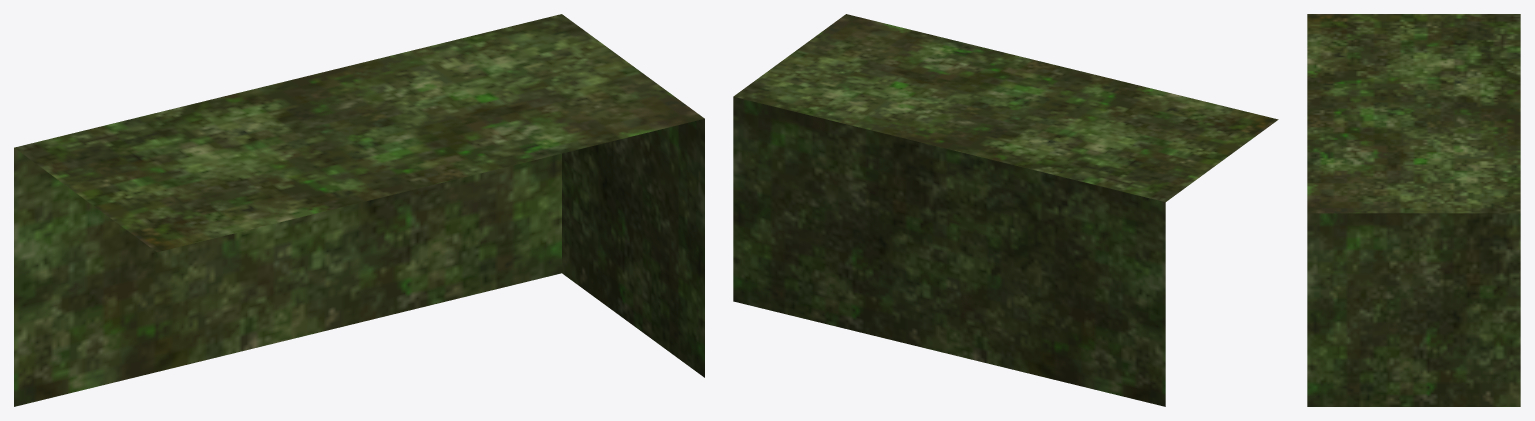
Rendered from OVERHILL_A_01_PLANE126.fbx.
3 renders of one model, left to right at view 1: azimuth 30°, elevation 25°; view 2: azimuth 150°, elevation 25°; view 3: azimuth 270°, elevation 25°, orthographic. The views are drawn at different scales.
Visible parts, largest first — view 1: OVERHILL_A_01_PLANE126; view 2: OVERHILL_A_01_PLANE126; view 3: OVERHILL_A_01_PLANE126.
Part boxes in pixels (x1,y1,x2,y2): OVERHILL_A_01_PLANE126: [14, 14, 704, 406]; OVERHILL_A_01_PLANE126: [733, 14, 1278, 406]; OVERHILL_A_01_PLANE126: [1307, 14, 1520, 406].
Bounding box in the file's own units: 31223 × 14121 × 14121.
1 material, 1 textured.
